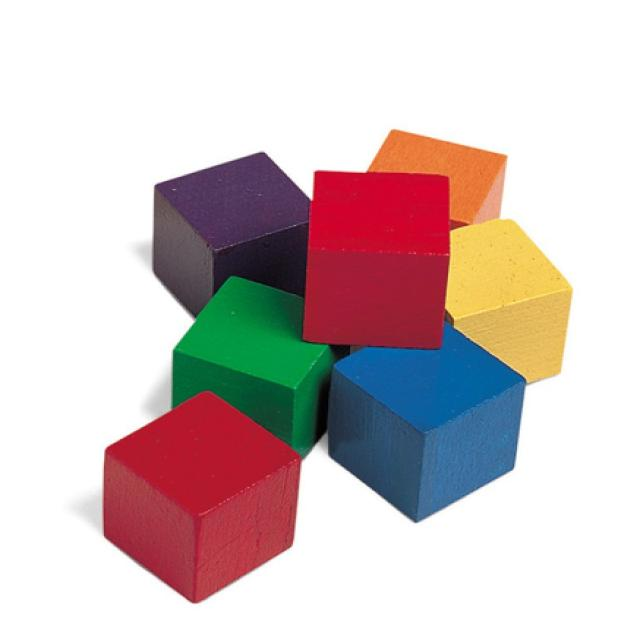bluecube: (328, 320, 527, 524)
green cube: (173, 274, 350, 459)
red cube: (101, 391, 306, 606), (301, 170, 453, 350)
